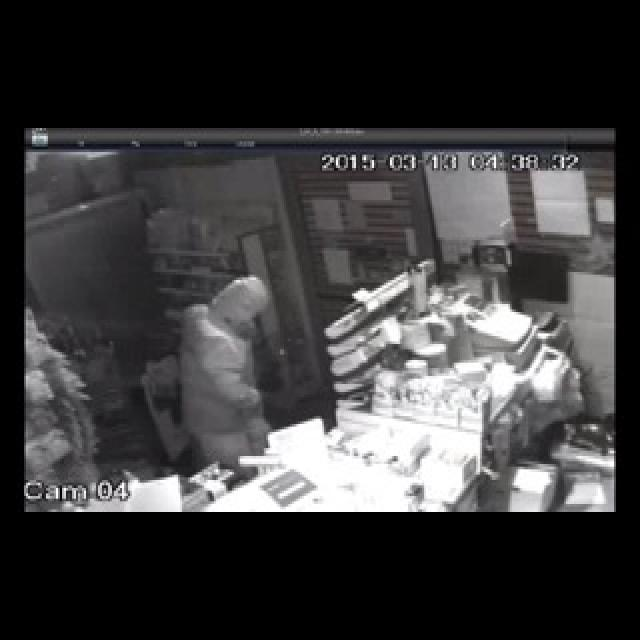thief: (175, 277, 268, 461)
